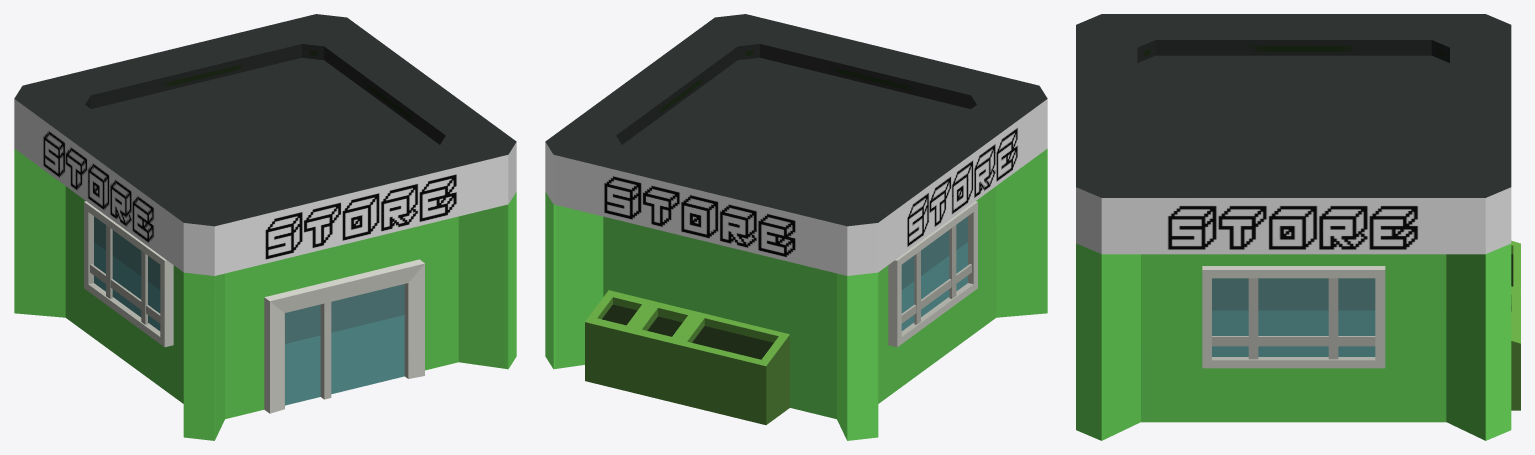
The model's file is Basic Store.fbx.
3 renders of one model, left to right at view 1: azimuth 30°, elevation 25°; view 2: azimuth 150°, elevation 25°; view 3: azimuth 270°, elevation 25°, orthographic. The views are drawn at different scales.
Parts seen in each view (by area): view 1: Basic Store; view 2: Basic Store; view 3: Basic Store.
Boxes of the visible parts, bbox=[...] form: Basic Store: bbox=[14, 14, 516, 440]; Basic Store: bbox=[545, 14, 1047, 440]; Basic Store: bbox=[1076, 14, 1520, 440].
Size of the model in its own units: 2.45 by 1.51 by 2.51.
